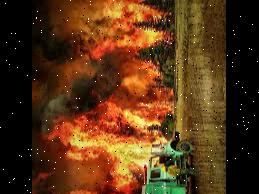fire: (65, 0, 169, 194)
